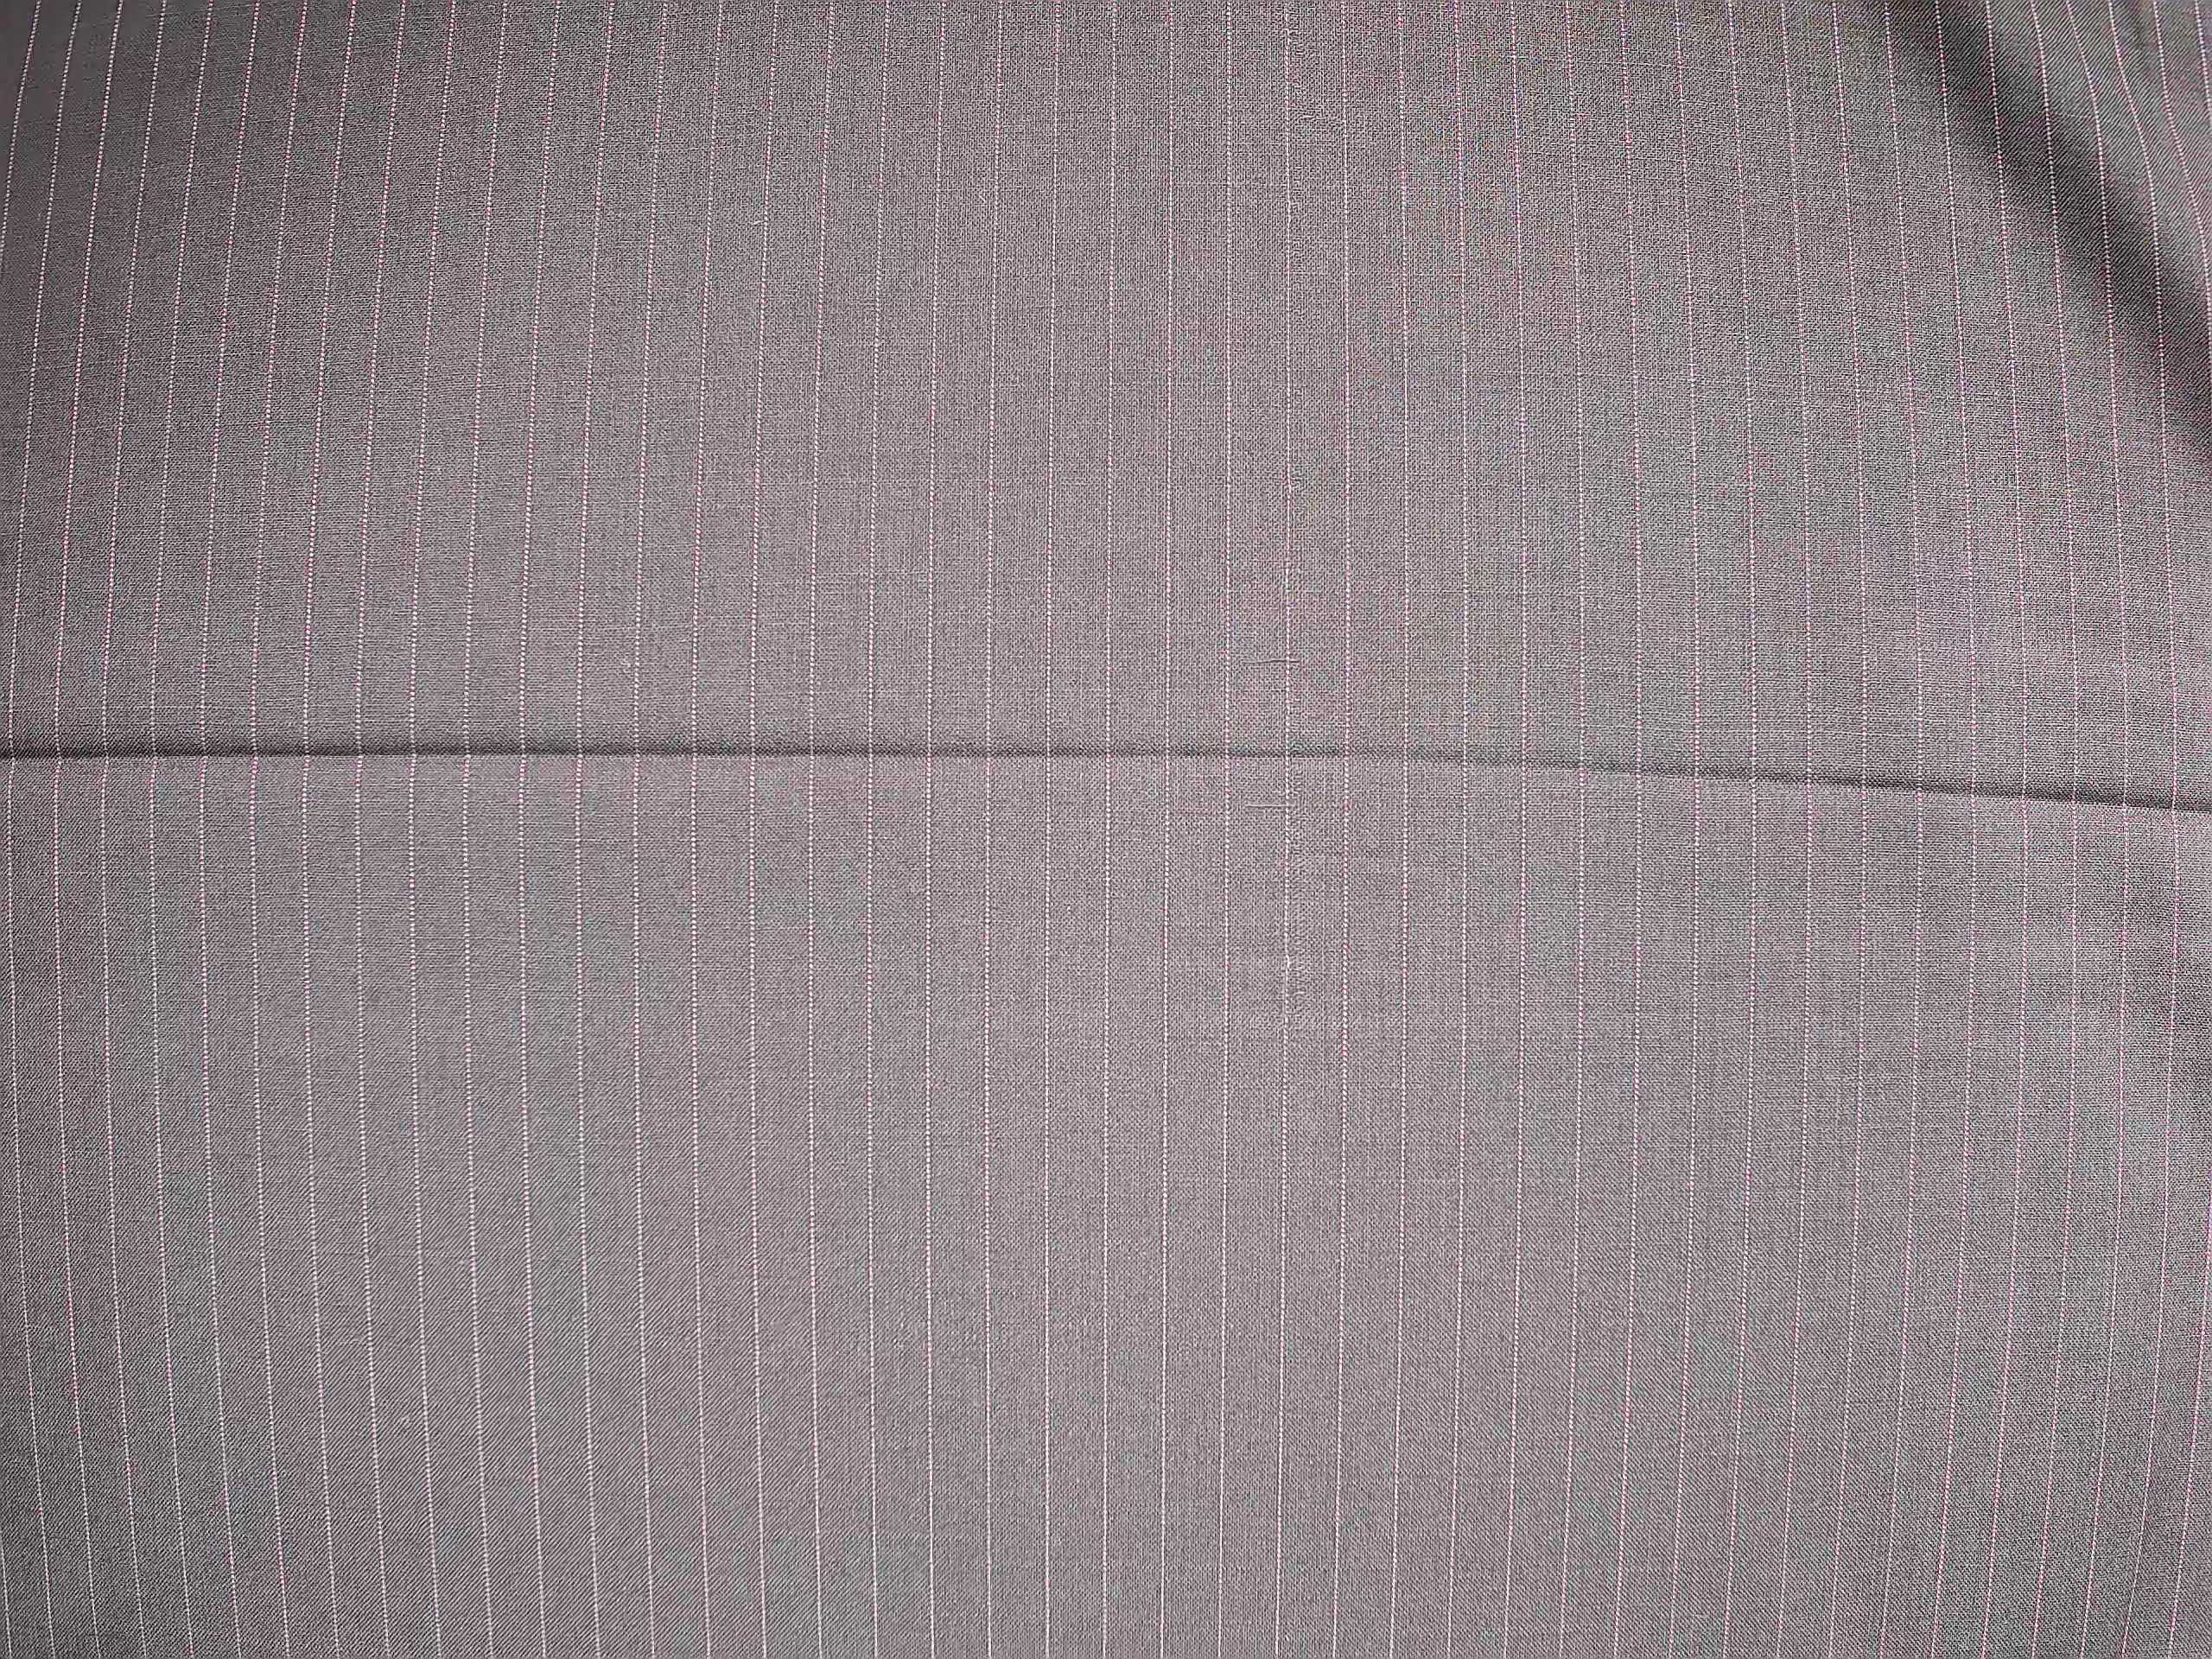jumps: (1238, 647, 1310, 674), (1240, 796, 1318, 821)
